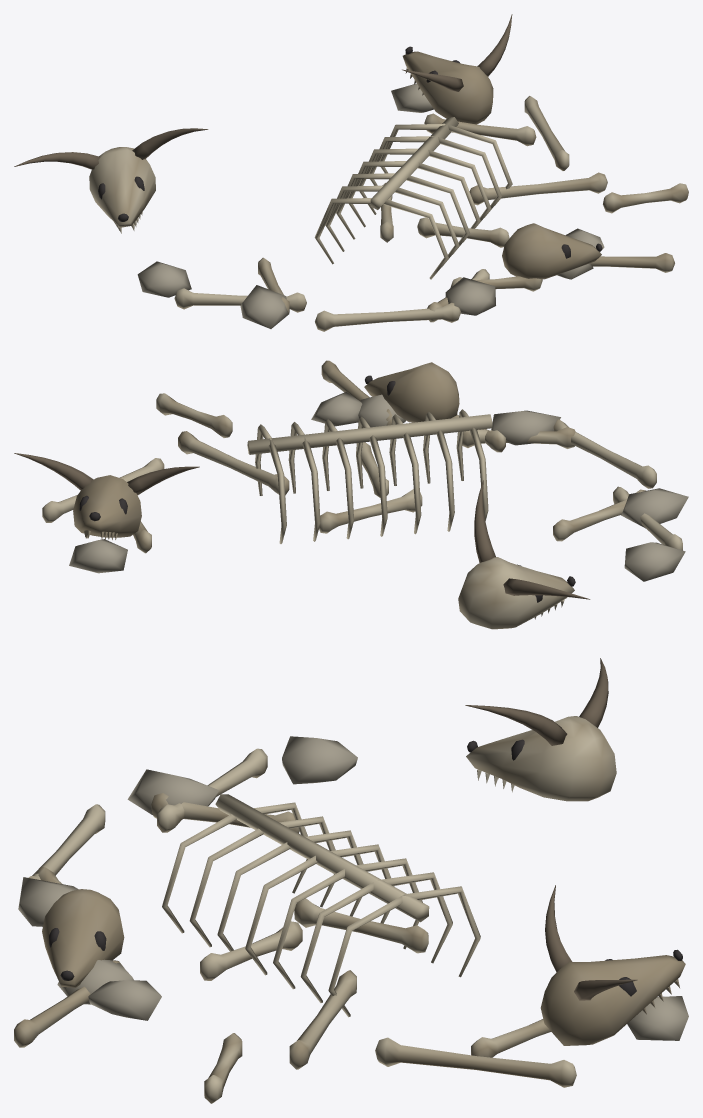
Rendered from camp_hob_sheep_bones.glb.
The picture shows the model from 3 angles, top to bottom: view 1: azimuth 30°, elevation 25°; view 2: azimuth 150°, elevation 25°; view 3: azimuth 270°, elevation 25°; orthographic projection. The views are drawn at different scales.
Parts seen in each view (by area): view 1: camp_hob_sheep_bones; view 2: camp_hob_sheep_bones; view 3: camp_hob_sheep_bones.
Part boxes in pixels (x1,y1,x2,y2): camp_hob_sheep_bones: (14, 14, 688, 331); camp_hob_sheep_bones: (14, 360, 688, 629); camp_hob_sheep_bones: (14, 658, 688, 1103).
Size of what is drawn, in the model's own units: 1.43 by 0.2728 by 1.13.
